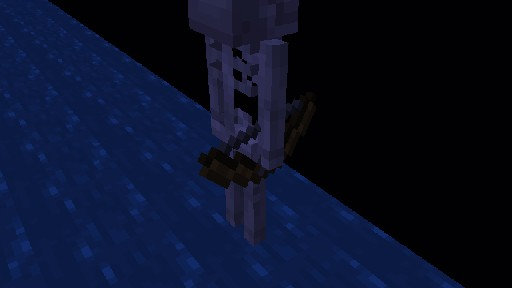skeleton: (182, 0, 316, 245)
